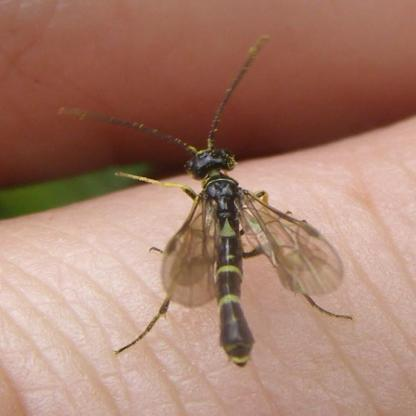sawfly: (53, 33, 359, 367)
